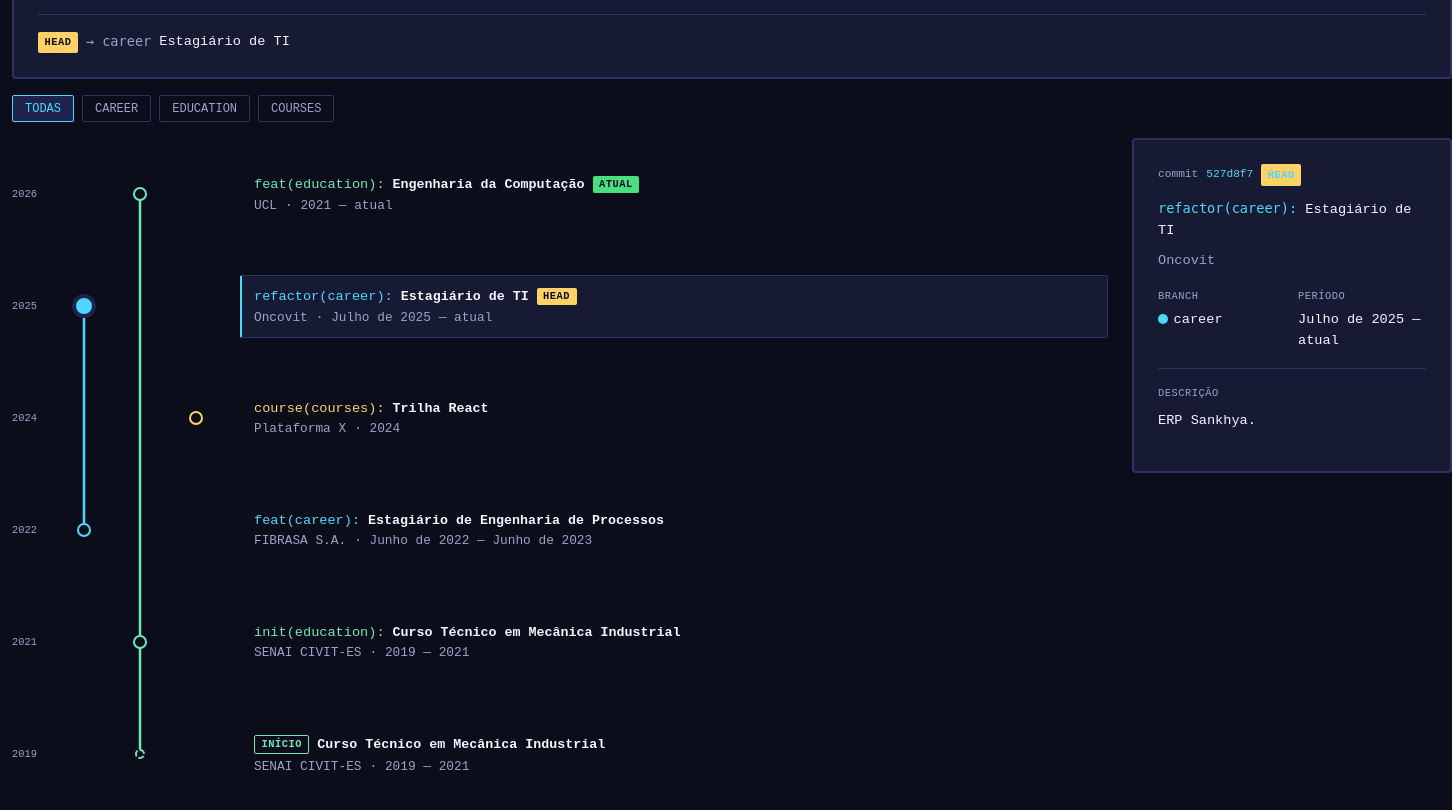
it: CareerGraph › shows a "start" marker for a long education event whose real start differs from sortDate
This screenshot has width=1452, height=810.
(page scrolled)
Click the button with aria-label "INÍCIO — Ver detalhes do commit: Curso Técnico em Mecânica I". click: {"x": 282, "y": 744}
box: [240,722,1108,787]
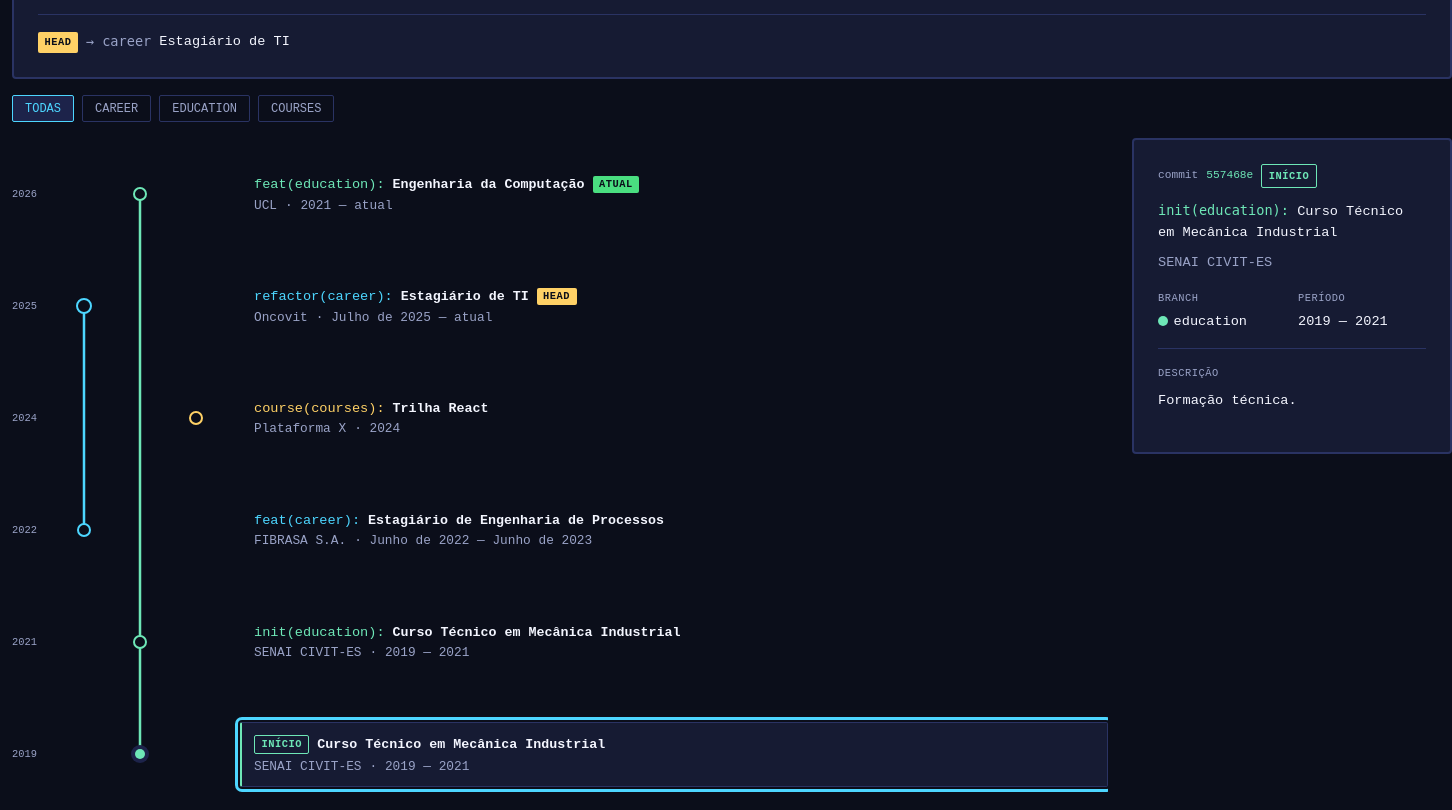
Expected: the element that starts with "commit" shows "SENAI CIVIT-ES", [1158,255,1272,270]
